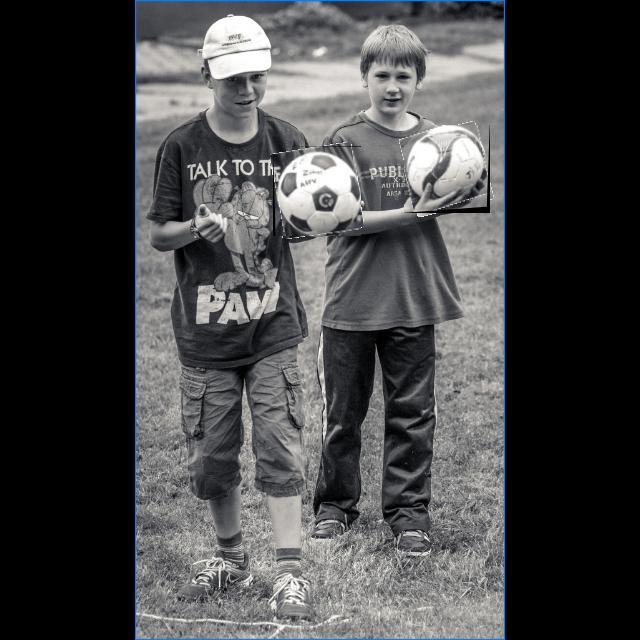Football: (273, 146, 361, 236), (404, 125, 490, 213)
